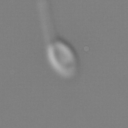normal: (32, 1, 57, 42)
